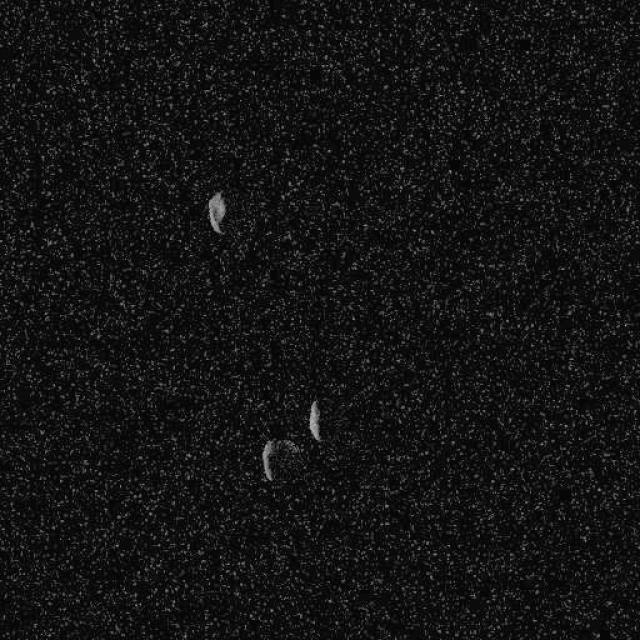D2: (260, 438, 300, 482), (206, 190, 226, 235), (306, 398, 322, 442)
